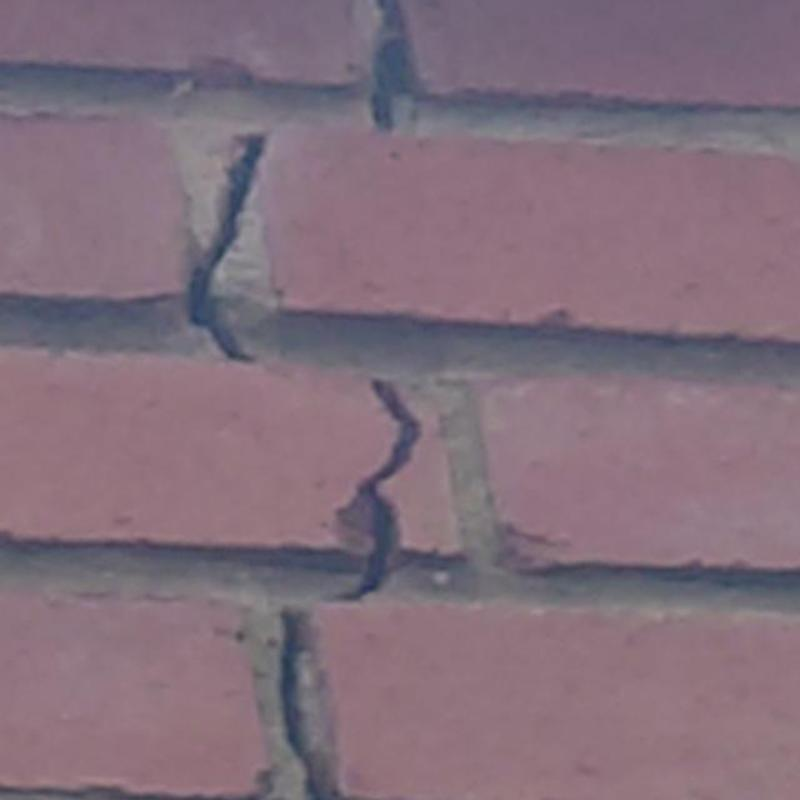pothole: (189, 134, 266, 360), (347, 380, 420, 599), (280, 611, 328, 799), (372, 0, 417, 130)
